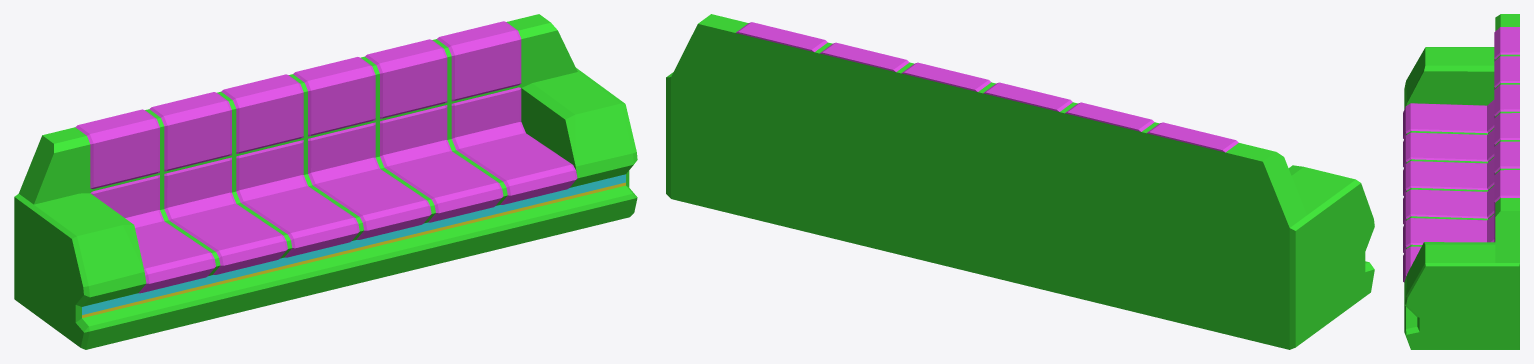
Rendered from Chair_11_A.fbx.
3 views of the same model, side by side, from view 1: azimuth 30°, elevation 25°; view 2: azimuth 150°, elevation 25°; view 3: azimuth 270°, elevation 25° (orthographic). The views are drawn at different scales.
Visible parts, largest first — view 1: Chair_11_A; view 2: Chair_11_A; view 3: Chair_11_A.
Part boxes in pixels (x1,y1,x2,y2): Chair_11_A: [14, 14, 637, 349]; Chair_11_A: [666, 14, 1374, 349]; Chair_11_A: [1403, 14, 1519, 349].
Size of the model in its own units: 375 by 104 by 84.47.
